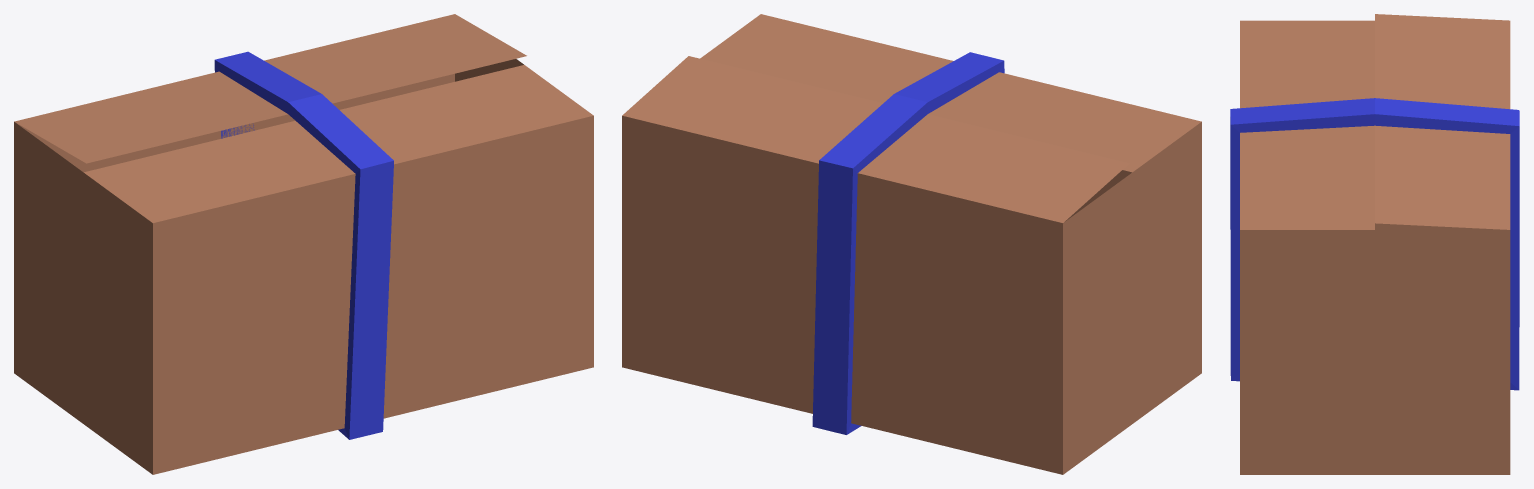
The picture shows the model from 3 angles, left to right: view 1: azimuth 30°, elevation 25°; view 2: azimuth 150°, elevation 25°; view 3: azimuth 270°, elevation 25°; orthographic projection. The views are drawn at different scales.
Parts seen in each view (by area): view 1: Cube, BLUE; view 2: Cube, BLUE; view 3: Cube, BLUE.
Boxes of the visible parts, <box> form: Cube: <box>14,14,593,474</box>; BLUE: <box>214,51,393,439</box>; Cube: <box>622,14,1201,474</box>; BLUE: <box>812,52,1004,434</box>; Cube: <box>1240,14,1510,474</box>; BLUE: <box>1230,98,1519,390</box>.
Bounding box in the file's own units: 117 × 70.4 × 67.61.
